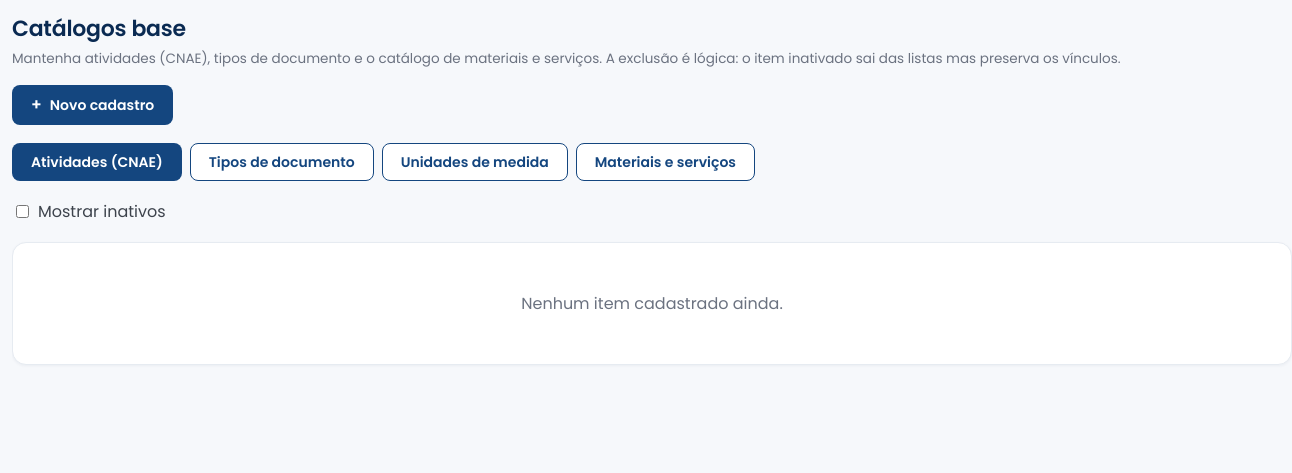
ManterCatalogos — aba Materiais e Serviços › filtro por natureza reduz a lista aos serviços
Click the tab with test id "tab-materiais-servicos".
click(665, 162)  # box [576,143,755,181]
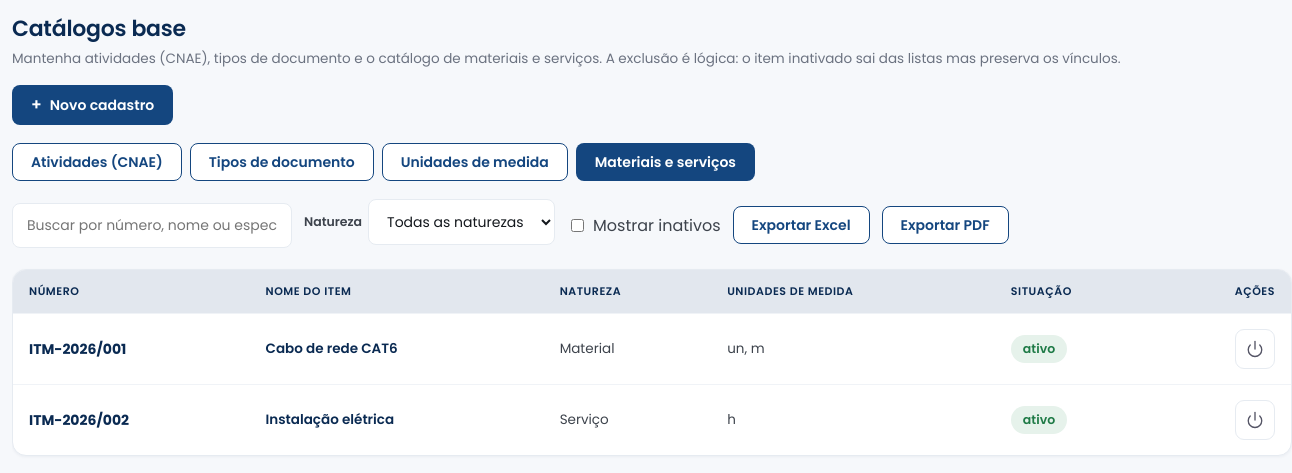
Expected: the number of rows with test id "item-catalogo" is 2, [13,314,1291,384]; [13,384,1291,455]
Select "Serviço" in the dropdown with test id "filtro-tipo" at (462, 222), box [368,199,555,245]
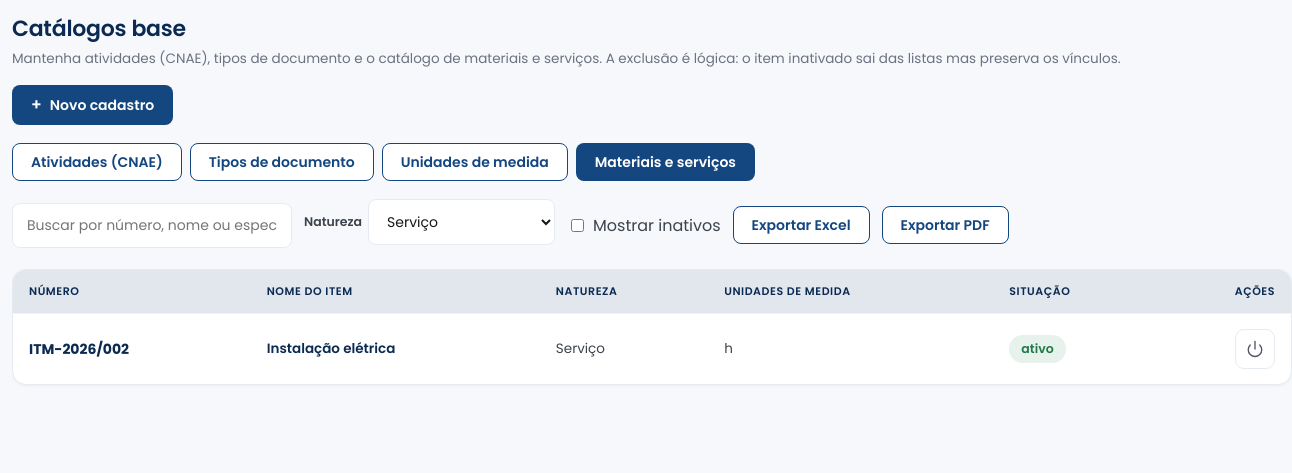
Expected: the text "Instalação elétrica" is shown, [251,314,540,384]
Expected: the number of rows with test id "item-catalogo" is 1, [13,314,1291,384]
